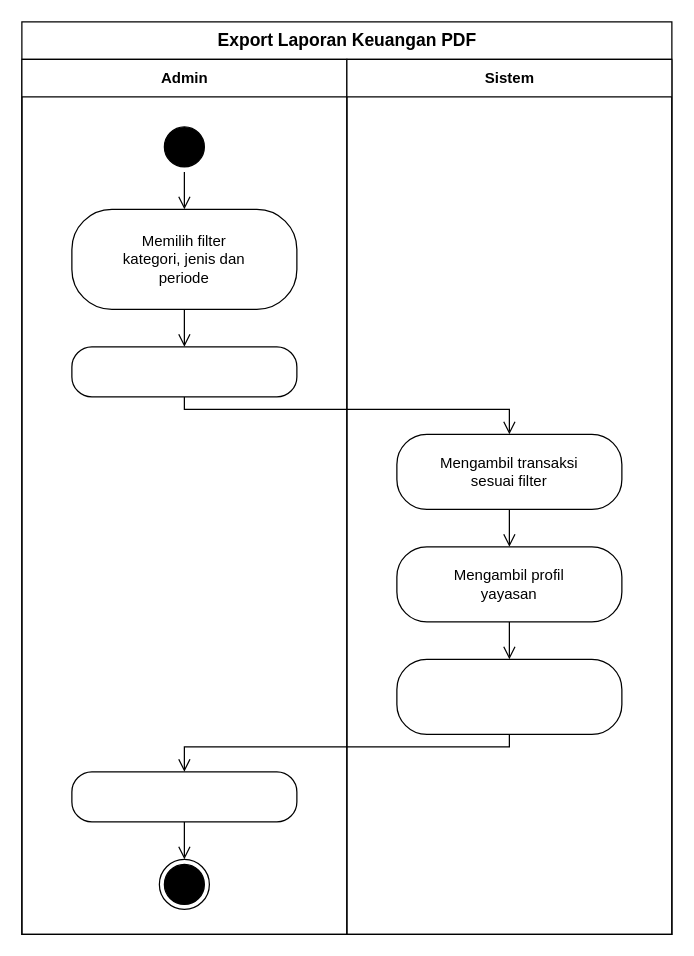
Some shapes in this 694 by 956 pixel diagram are drawn without their labels. Each missing label, with the centre of its shape:
"Klik tombol Export PDF" belongs at [184,371].
"Membuat file PDF laporan keuangan" belongs at [509,696].
"Mengunduh file PDF" belongs at [184,796].
